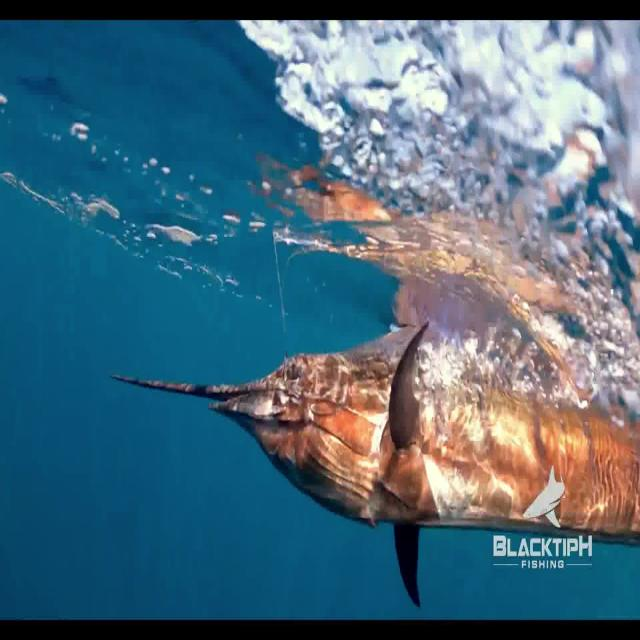Sail Fish: (106, 317, 640, 607)
